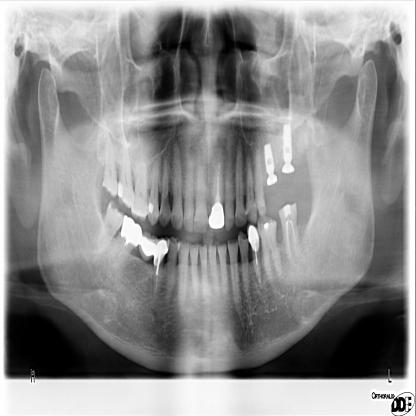Bicon: (261, 143, 279, 188), (282, 120, 296, 175)
